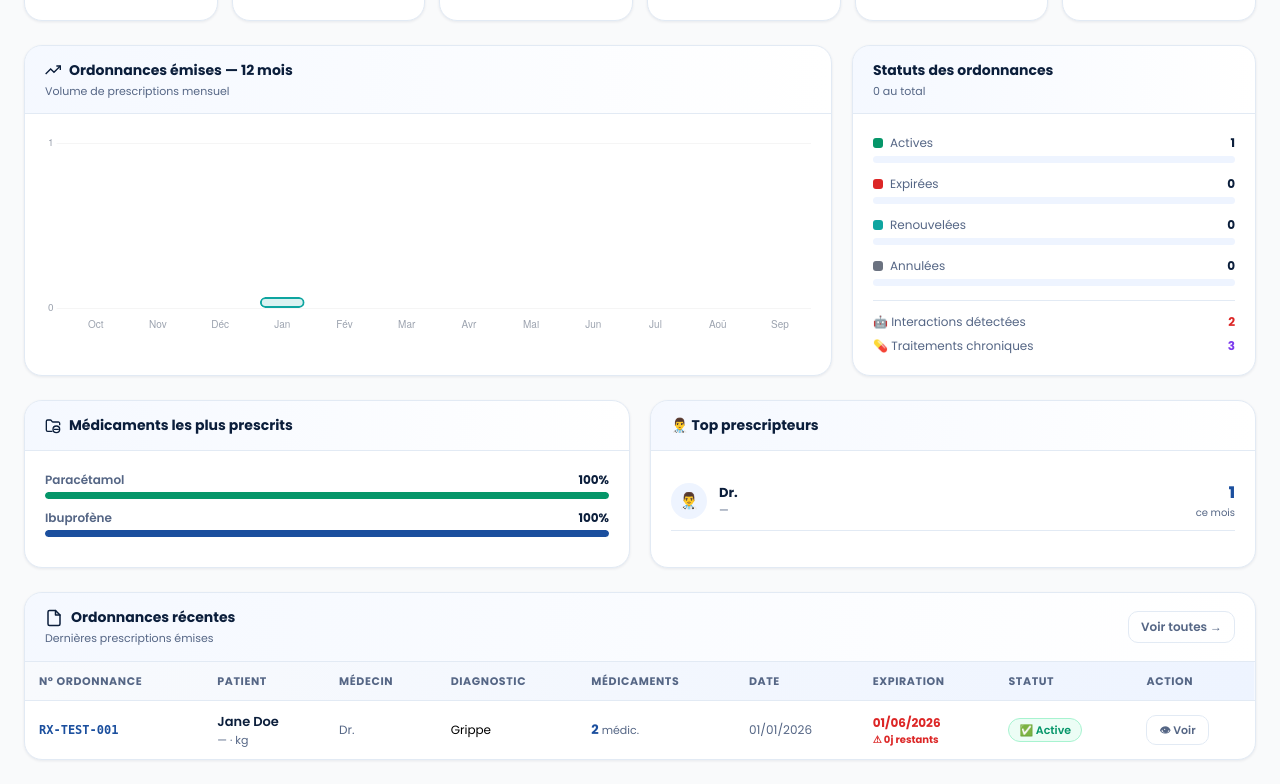
Test: "Analyser" appelle réellement POST /ai/interactions (réutilise le vrai sous-module IA) et affiche le résultat réel
(page scrolled)
What coordinates should you click on to do the following:
click the button "👁 Voir"
I would click on:
 (1178, 730)
Its box is [1146,715,1209,745].
(page scrolled)
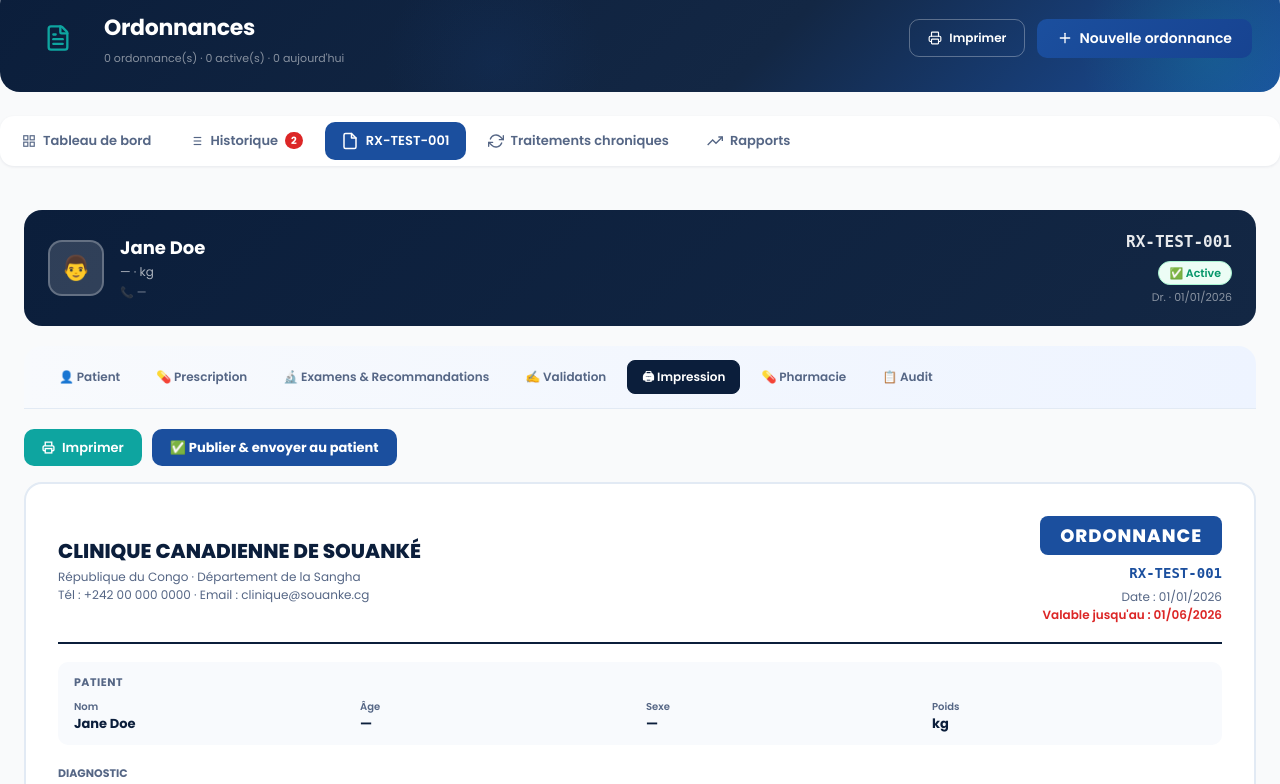
What coordinates should you click on to do the following:
click the button "💊 Prescription"
I would click on:
 (202, 376)
Its box is [141,360,262,394].
(page scrolled)
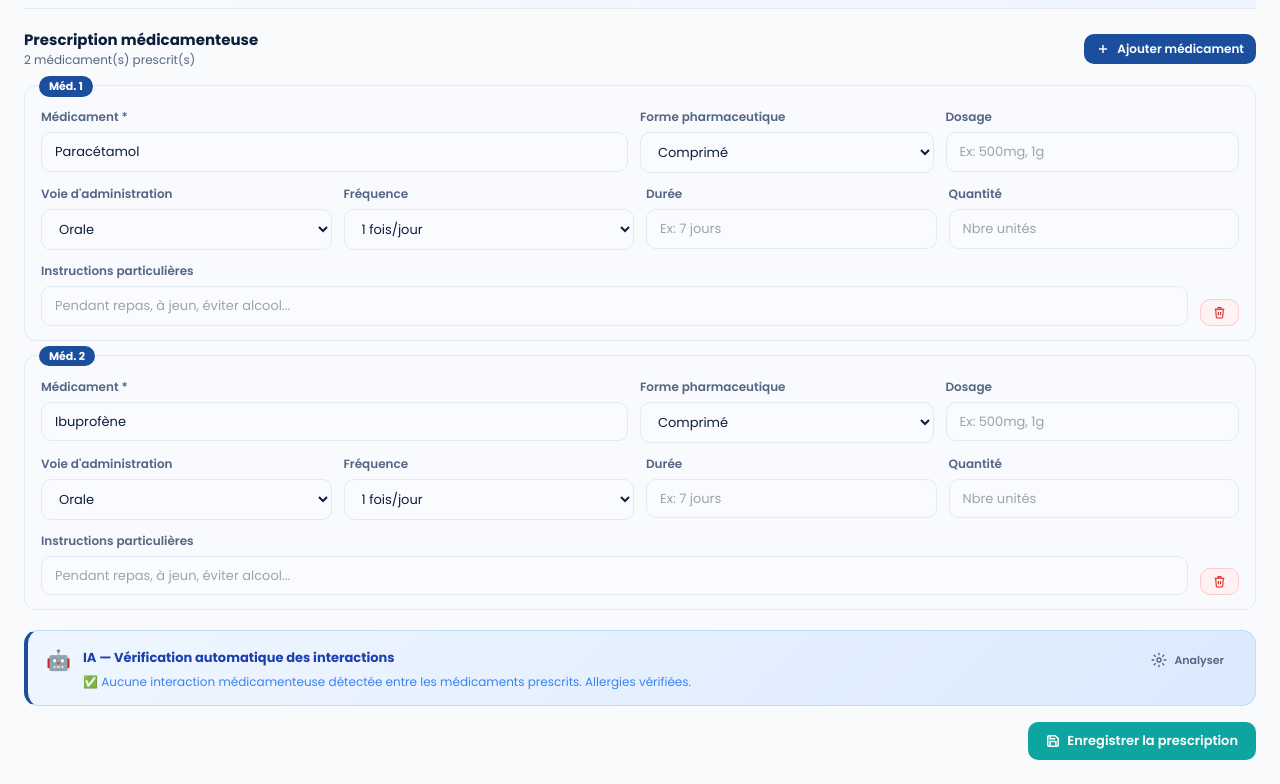
What coordinates should you click on to do the following:
click the button "Analyser"
I would click on:
 (1188, 660)
Its box is [1138,645,1237,676].
(page scrolled)
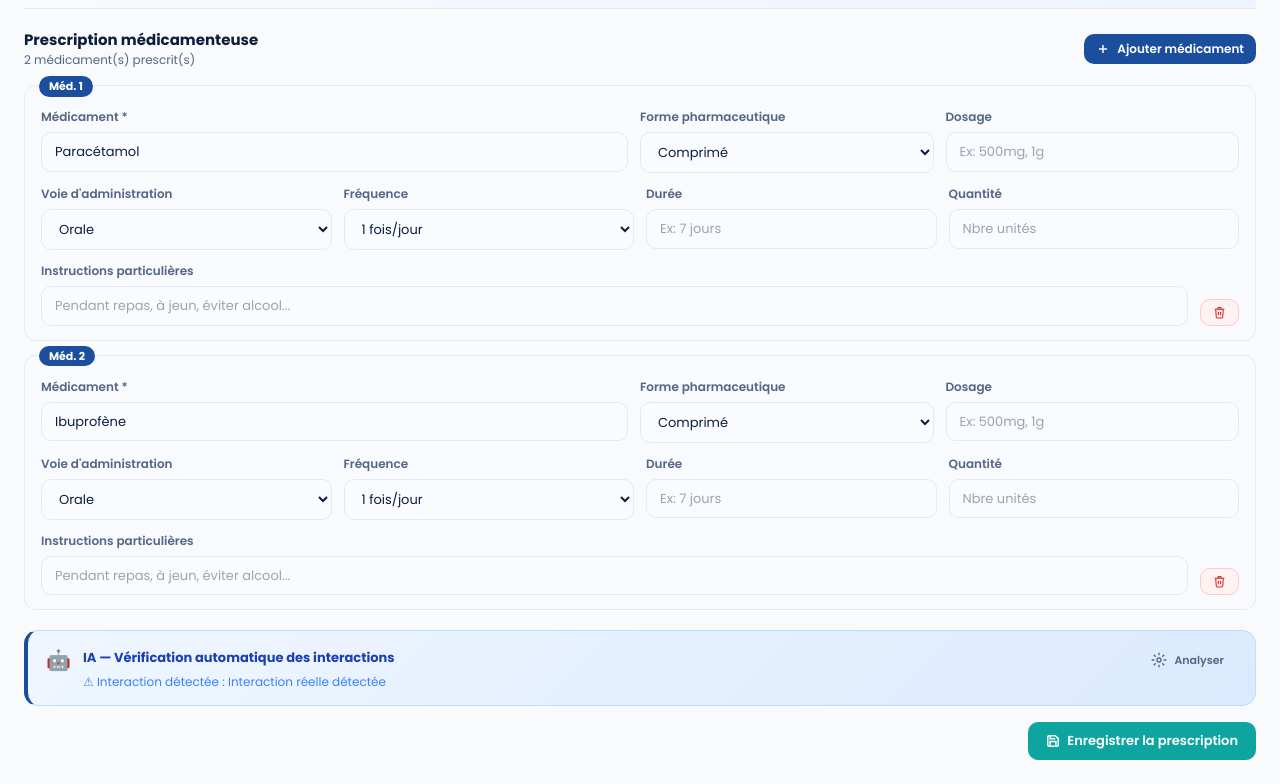
Check: the text "⚠ Interaction détectée : Interaction réelle détectée" is shown, box [83,673,386,690]
